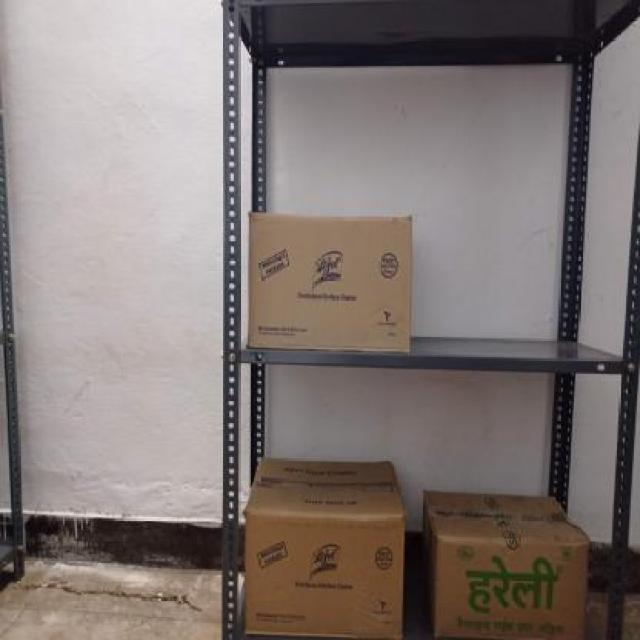box: (246, 216, 414, 350), (243, 514, 406, 628), (436, 532, 586, 640)
